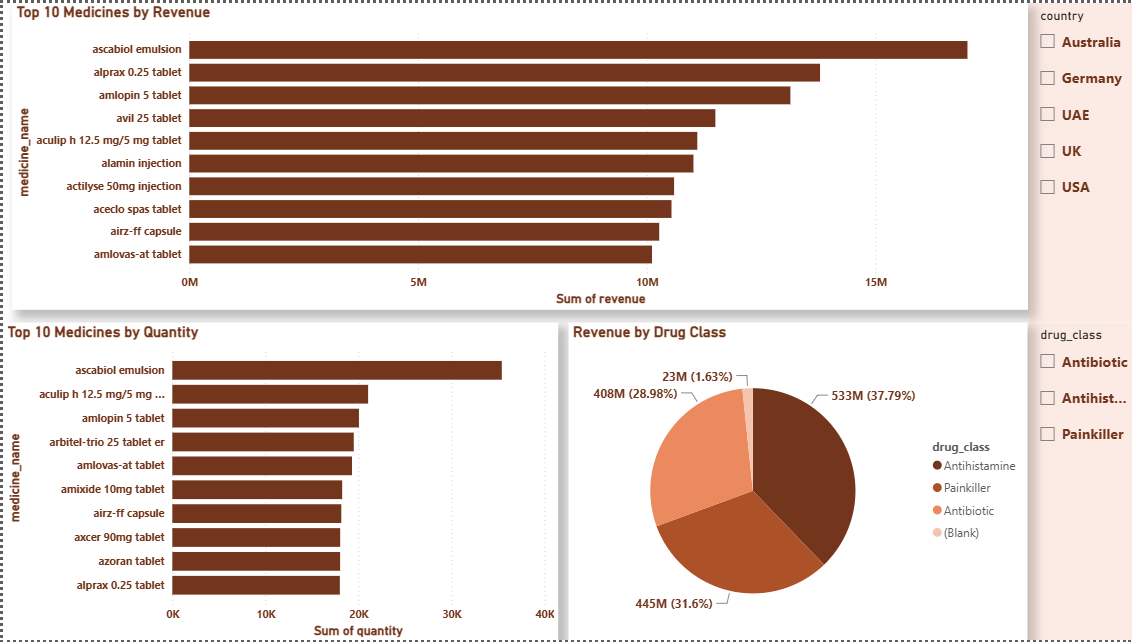

The dashboard page shown, as its layout file describes it:
{"tool":"powerbi","page":{"name":"Medicine Analysis","canvas":[1280,720],"ordinal":2},"visuals":[{"type":"barChart","title":"Top 10 Medicines by Revenue","fields":{"Category":["medicine.medicine_name"],"Y":["Sum(exportOrders.revenue)"]},"box":[10.3,0,1148.3,346.6],"z":0},{"type":"barChart","title":"Top 10 Medicines by Quantity","fields":{"Category":["medicine.medicine_name"],"Y":["Sum(exportOrders.quantity)"]},"box":[0,360.3,627.6,360.3],"z":1000},{"type":"pieChart","title":"Revenue by Drug Class","fields":{"Category":["medicine.drug_class"],"Y":["Sum(exportOrders.revenue)"]},"box":[639.7,360.3,519,360.3],"z":2000},{"type":"slicer","fields":{"Values":["exportOrders.country"]},"box":[1158.6,0,120.7,360.3],"z":3000},{"type":"slicer","fields":{"Values":["medicine.drug_class"]},"box":[1158.6,360.3,120.7,360.3],"z":4000}]}

Visuals, with their boxes in screenshot pixels (x1, y1, x2, y2), scaled from the page's 1280x720 canvas onto the 1132x642 screenshot:
"Top 10 Medicines by Revenue" barChart: <bbox>9, 0, 1025, 309</bbox>
"Top 10 Medicines by Quantity" barChart: <bbox>0, 321, 555, 641</bbox>
"Revenue by Drug Class" pieChart: <bbox>566, 321, 1025, 641</bbox>
slicer - exportOrders.country: <bbox>1025, 0, 1131, 321</bbox>
slicer - medicine.drug_class: <bbox>1025, 321, 1131, 641</bbox>
